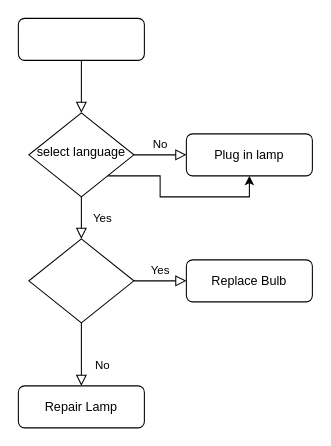
This 331x446 diagram has some shape labels left out. Each missing label, with the centre of its shape:
"Bulb burned out?" belongs at (81,280).
"open draw.io" belongs at (80,38).
